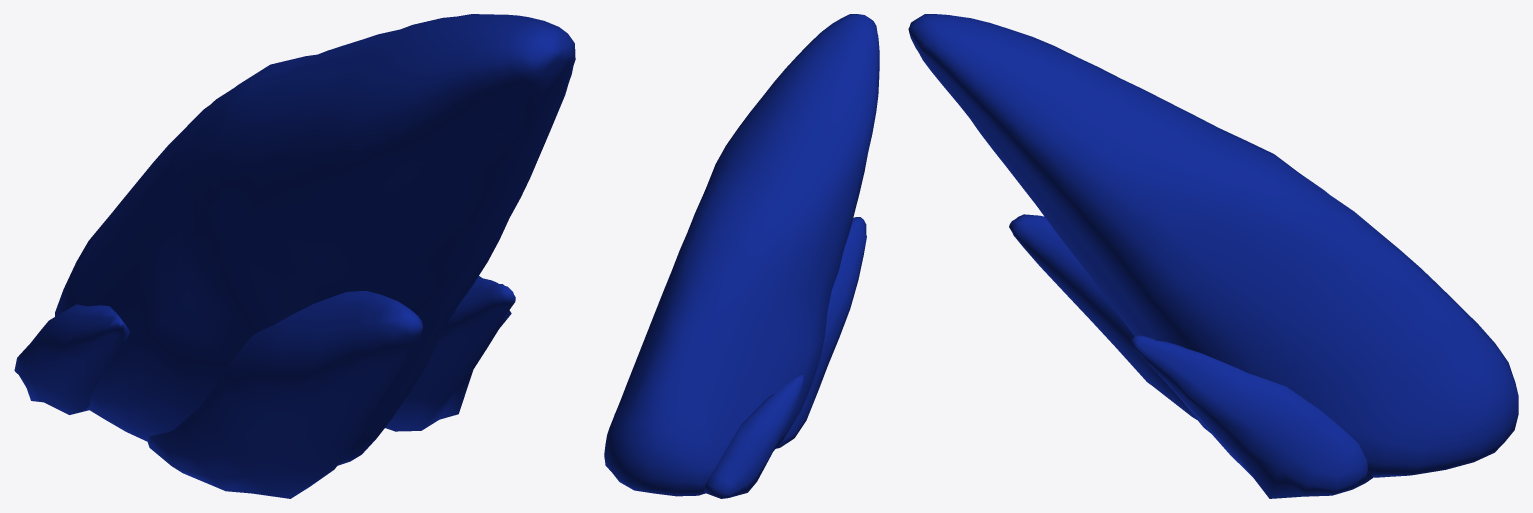
File: EarthSpikeMerged_low.fbx
3 views of the same model, side by side, from view 1: azimuth 30°, elevation 25°; view 2: azimuth 150°, elevation 25°; view 3: azimuth 270°, elevation 25° (orthographic). The views are drawn at different scales.
Visible parts, largest first — view 1: Spike1_low; view 2: Spike1_low; view 3: Spike1_low.
Boxes of the visible parts, x1,y1,x2,y2 form: Spike1_low: (14,14,575,498); Spike1_low: (604,14,879,498); Spike1_low: (908,14,1518,498).
Size of the model in its own units: 0.4863 by 0.816 by 1.06.
